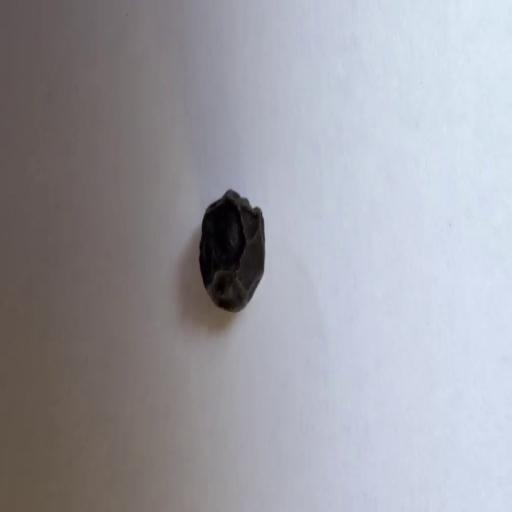Black_pepper: (155, 136, 288, 373)
